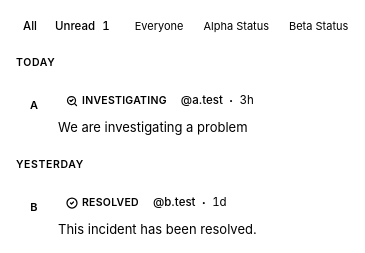
Test: the account chips › toggle off when clicked twice
Click the button "Alpha Status": (236, 27) [195,16,277,37]
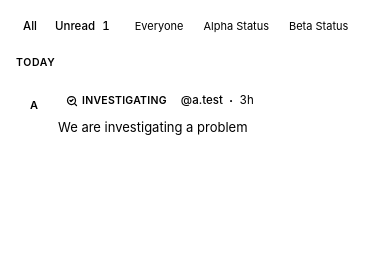
Click the button "Alpha Status": (236, 27) [195,16,277,37]
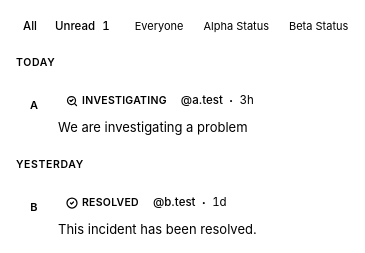
Check: the text "This incident has been resolved." is shown, box [58,221,257,237]
